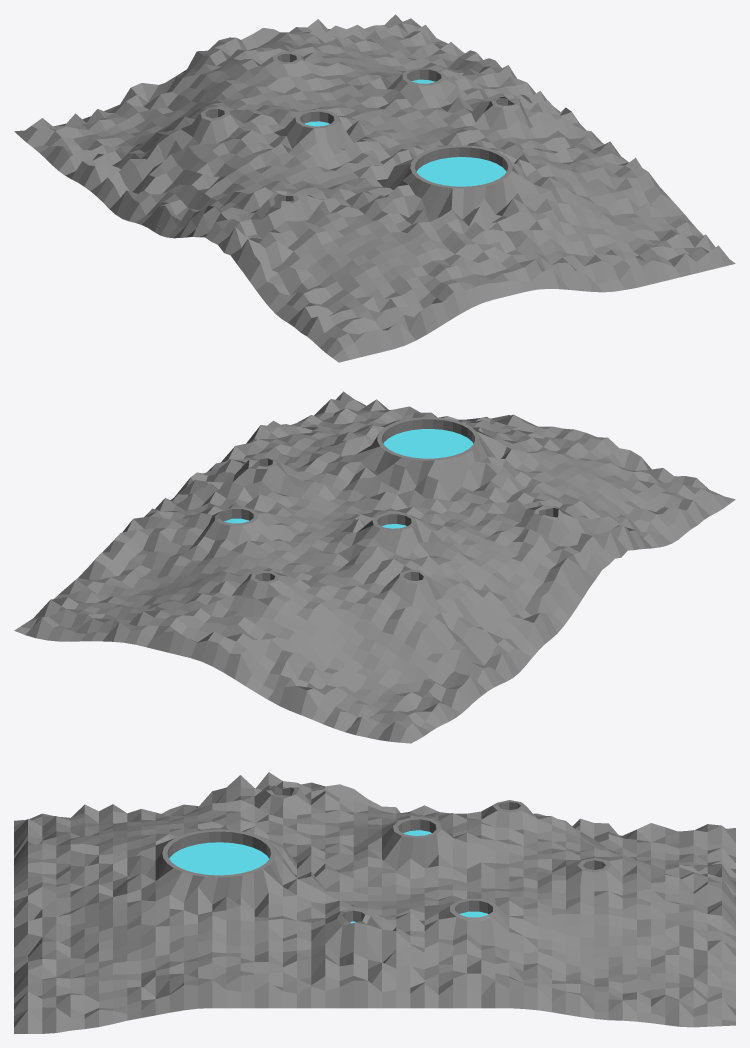
File: Gesere.fbx
The picture shows the model from 3 angles, top to bottom: view 1: azimuth 30°, elevation 25°; view 2: azimuth 150°, elevation 25°; view 3: azimuth 270°, elevation 25°; orthographic projection. The views are drawn at different scales.
Visible parts, largest first — view 1: Plane; view 2: Plane; view 3: Plane.
Boxes of the visible parts, <box> form: Plane: <box>14,14,735,362</box>; Plane: <box>14,391,735,743</box>; Plane: <box>14,772,735,1033</box>.
Size of the model in its own units: 141 by 30.93 by 200.
